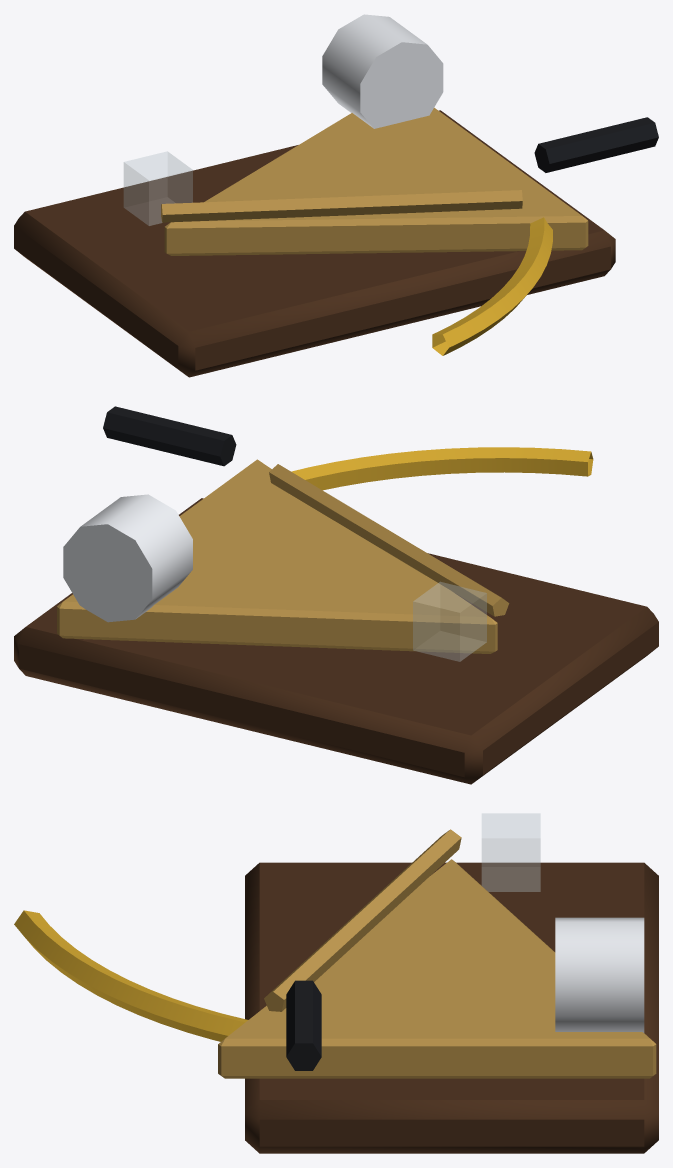
File: instrument_sextant.glb
The picture shows the model from 3 angles, top to bottom: view 1: azimuth 30°, elevation 25°; view 2: azimuth 150°, elevation 25°; view 3: azimuth 270°, elevation 25°; orthographic projection. The views are drawn at different scales.
Parts seen in each view (by area): view 1: instrument_sextant; view 2: instrument_sextant; view 3: instrument_sextant.
Part boxes in pixels (left/top/right/bottom): instrument_sextant: left=14, top=14, right=658, bottom=377; instrument_sextant: left=14, top=406, right=658, bottom=784; instrument_sextant: left=14, top=813, right=658, bottom=1153.
Size of the model in its own units: 0.225 by 0.07 by 0.218.
